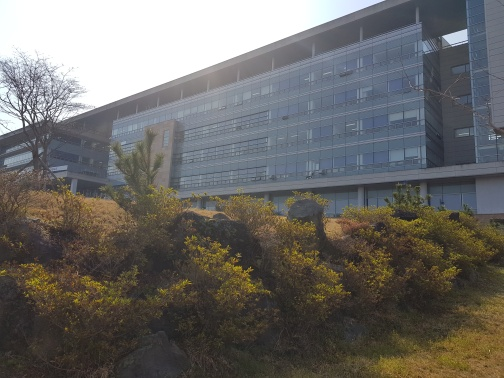Engineering College Building 4: (7, 121, 496, 185), (362, 8, 504, 208), (195, 34, 354, 196)
